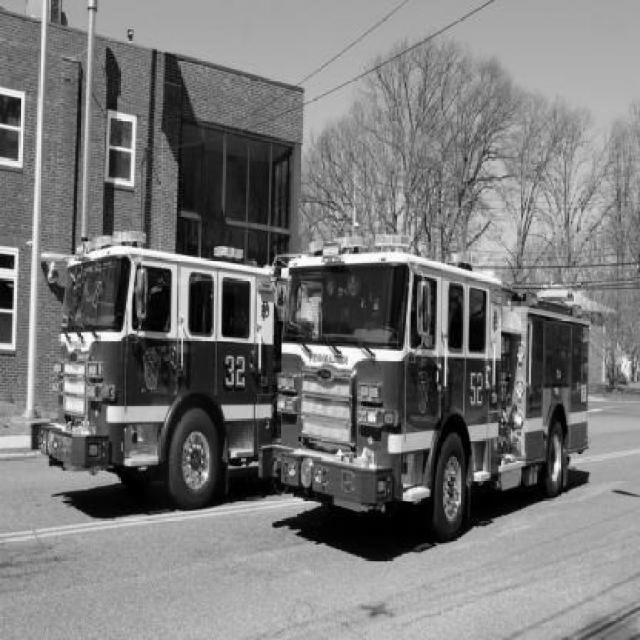Fire Truck: (259, 235, 591, 543), (29, 230, 275, 511)
